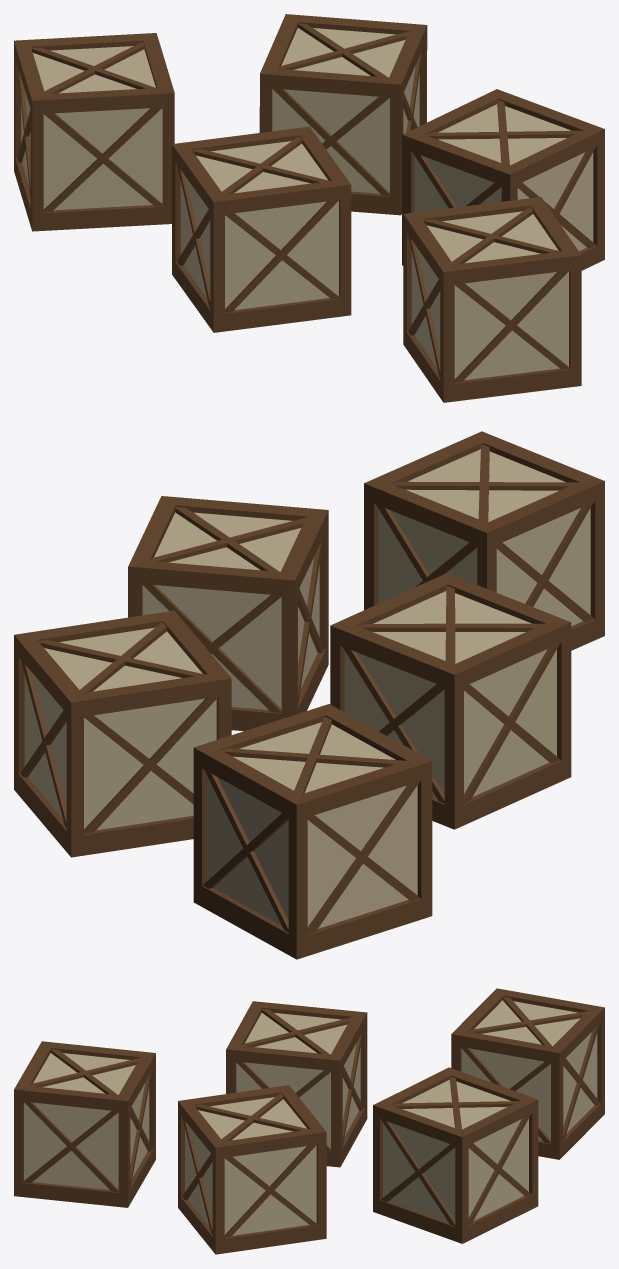
Rendered from Wooden_Boxes__004.fbx.
The picture shows the model from 3 angles, top to bottom: view 1: azimuth 30°, elevation 25°; view 2: azimuth 150°, elevation 25°; view 3: azimuth 270°, elevation 25°; orthographic projection. The views are drawn at different scales.
Parts seen in each view (by area): view 1: Wooden box-2; view 2: Wooden box-2; view 3: Wooden box-2.
Boxes of the visible parts, x1,y1,x2,y2 form: Wooden box-2: (14, 14, 604, 402); Wooden box-2: (14, 431, 604, 959); Wooden box-2: (14, 988, 604, 1254).
Bounding box in the file's own units: 3.39 × 1.06 × 5.3.
